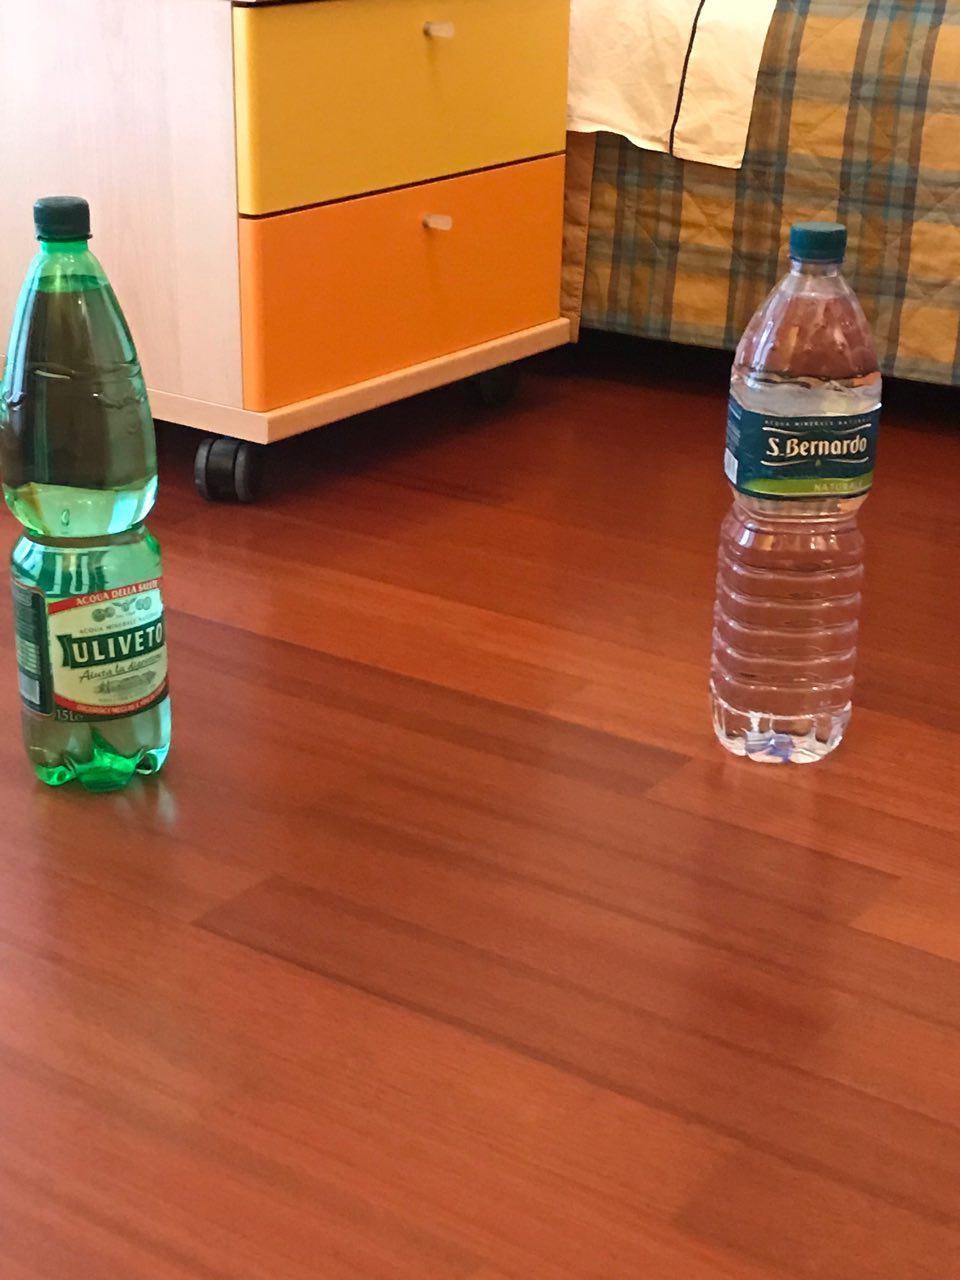san_bernardo: (709, 219, 883, 764)
